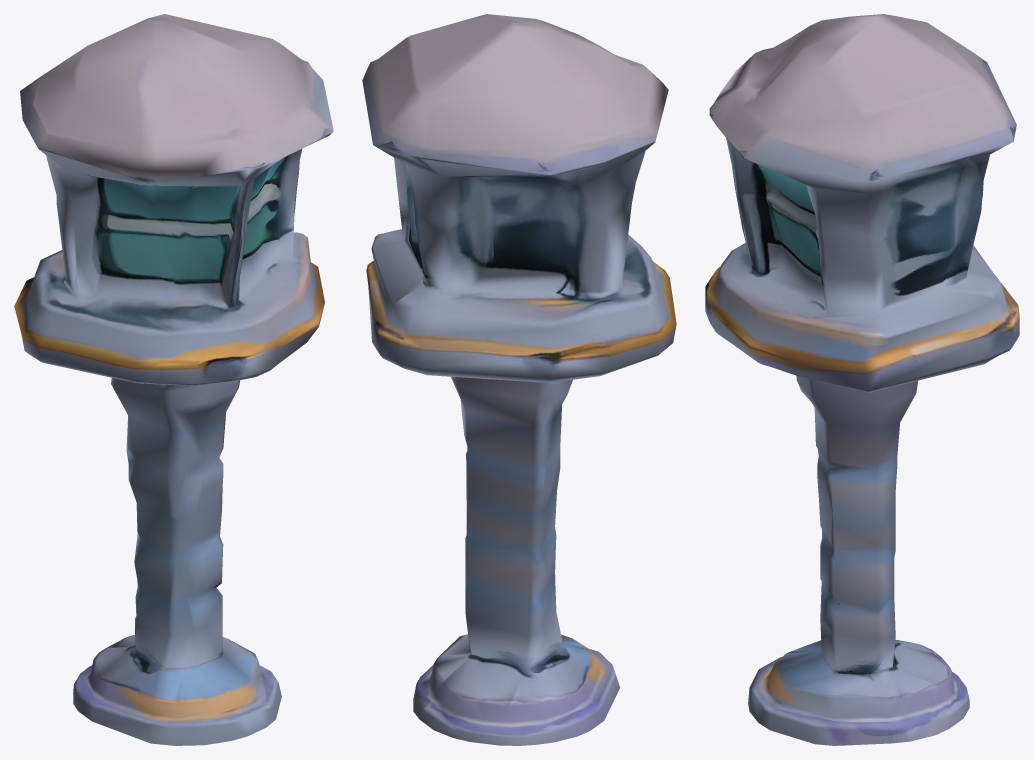
File: watchtower-low.glb
3 renders of one model, left to right at view 1: azimuth 30°, elevation 25°; view 2: azimuth 150°, elevation 25°; view 3: azimuth 270°, elevation 25°, orthographic.
Visible parts, largest first — view 1: watchtower; view 2: watchtower; view 3: watchtower.
Part boxes in pixels (x1,y1,x2,y2): watchtower: (14, 14, 333, 745); watchtower: (362, 14, 676, 745); watchtower: (705, 14, 1019, 745).
Size of the model in its own units: 0.456 by 1 by 0.4168.
1 material, 1 textured.
